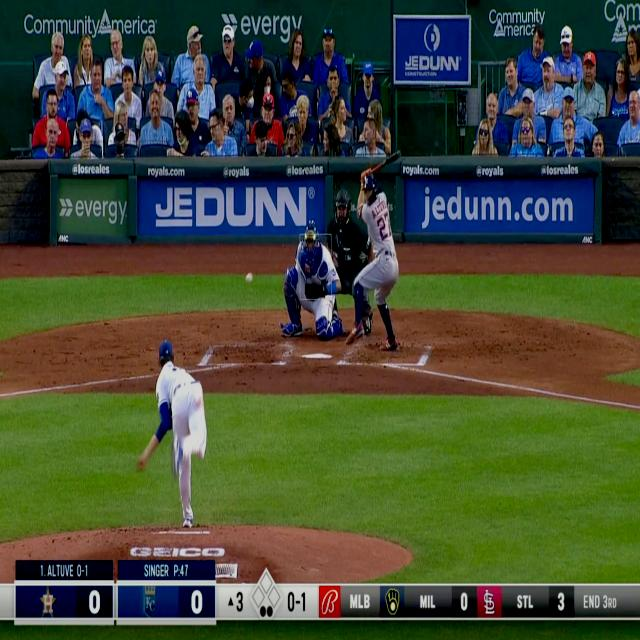baseball: (245, 272, 253, 284)
